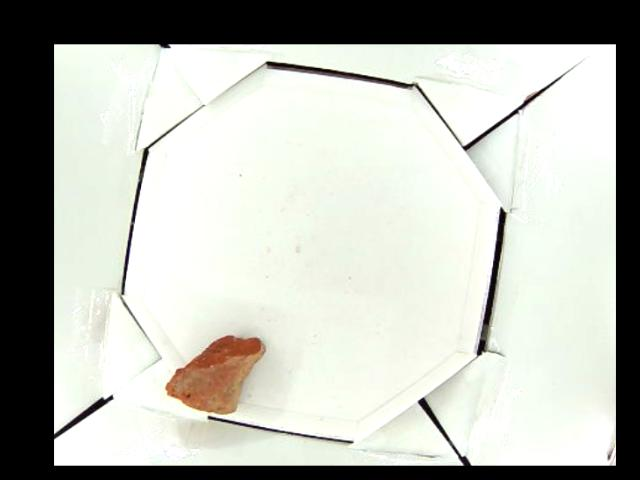Brisk: (163, 334, 263, 413)
